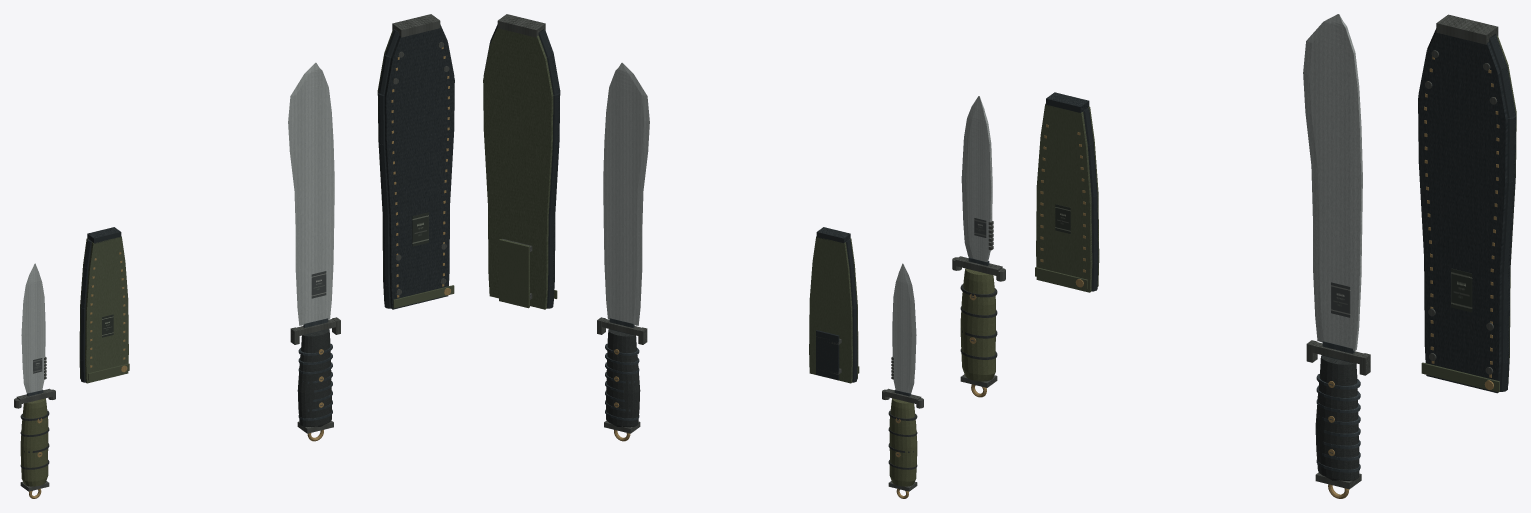
File: PZ_HuntingKnife_Machete.glb
3 renders of one model, left to right at view 1: azimuth 30°, elevation 25°; view 2: azimuth 150°, elevation 25°; view 3: azimuth 330°, elevation 25°, orthographic. The views are drawn at different scales.
Visible parts, largest first — view 1: Machete_Sheath_FrontPanel, Machete_Blade_BroadRecurve, Knife_Sheath_FrontPanel, Machete_Grip_NonslipCore, Knife_Blade_DropPoint_Main, Knife_Grip_Molded_Micarta, Machete_Sheath_TipGuard, Machete_Sheath_RetentionStrap, Machete_Sheath_BrandPlate, Machete_Sheath_SideReinforcement_L_3, Machete_Sheath_SideReinforcement_L_2; view 2: Machete_Sheath_BackPanel, Machete_Blade_BroadRecurve, Knife_Sheath_RearPanel, Machete_Grip_NonslipCore, Knife_Blade_DropPoint_Main, Knife_Grip_Molded_Micarta, Machete_Sheath_BeltLoop, Knife_Sheath_BeltLoop_Back, Machete_Sheath_TipGuard, Machete_Sheath_SideReinforcement_L_3, Machete_Sheath_SideReinforcement_L_2; view 3: Machete_Sheath_FrontPanel, Machete_Blade_BroadRecurve, Knife_Sheath_FrontPanel, Machete_Grip_NonslipCore, Knife_Blade_DropPoint_Main, Knife_Grip_Molded_Micarta, Machete_Sheath_TipGuard, Machete_Sheath_RetentionStrap, Machete_Sheath_BrandPlate, Machete_Sheath_SideReinforcement_R_3, Machete_Sheath_SideReinforcement_R_2, Machete_Blade_BrandPlate.
Part boxes in pixels (x1,y1,x2,y2): Machete_Sheath_FrontPanel: [384, 28, 454, 309]; Machete_Blade_BroadRecurve: [288, 62, 334, 325]; Knife_Sheath_FrontPanel: [85, 236, 128, 383]; Machete_Grip_NonslipCore: [297, 329, 331, 427]; Knife_Blade_DropPoint_Main: [21, 263, 45, 393]; Knife_Grip_Molded_Micarta: [20, 398, 48, 486]; Machete_Sheath_TipGuard: [392, 14, 440, 37]; Machete_Sheath_RetentionStrap: [393, 285, 454, 308]; Machete_Sheath_BrandPlate: [412, 212, 428, 246]; Machete_Sheath_SideReinforcement_L_3: [378, 143, 389, 216]; Machete_Sheath_SideReinforcement_L_2: [383, 215, 389, 285]; Machete_Sheath_BackPanel: [483, 28, 553, 309]; Machete_Blade_BroadRecurve: [603, 62, 649, 325]; Knife_Sheath_RearPanel: [809, 236, 852, 383]; Machete_Grip_NonslipCore: [606, 329, 640, 427]; Knife_Blade_DropPoint_Main: [892, 263, 916, 393]; Knife_Grip_Molded_Micarta: [889, 398, 917, 486]; Machete_Sheath_BeltLoop: [499, 239, 529, 308]; Knife_Sheath_BeltLoop_Back: [816, 330, 839, 379]; Machete_Sheath_TipGuard: [497, 14, 545, 37]; Machete_Sheath_SideReinforcement_L_3: [548, 143, 559, 216]; Machete_Sheath_SideReinforcement_L_2: [548, 215, 554, 285]; Machete_Sheath_FrontPanel: [1418, 32, 1507, 393]; Machete_Blade_BroadRecurve: [1303, 14, 1362, 350]; Knife_Sheath_FrontPanel: [1036, 104, 1092, 292]; Machete_Grip_NonslipCore: [1315, 355, 1359, 480]; Knife_Blade_DropPoint_Main: [961, 96, 992, 261]; Knife_Grip_Molded_Micarta: [960, 268, 995, 381]; Machete_Sheath_TipGuard: [1436, 14, 1498, 44]; Machete_Sheath_RetentionStrap: [1421, 362, 1499, 392]; Machete_Sheath_BrandPlate: [1451, 268, 1472, 312]; Machete_Sheath_SideReinforcement_R_3: [1502, 180, 1515, 274]; Machete_Sheath_SideReinforcement_R_2: [1501, 272, 1510, 362]; Machete_Blade_BrandPlate: [1331, 282, 1350, 317].
Size of the model in its own units: 0.7427 by 0.6376 by 0.0444.
Materials: 11 (11 with a texture image).
